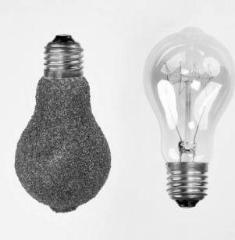lightbulb: (15, 33, 111, 212), (142, 25, 234, 207)
